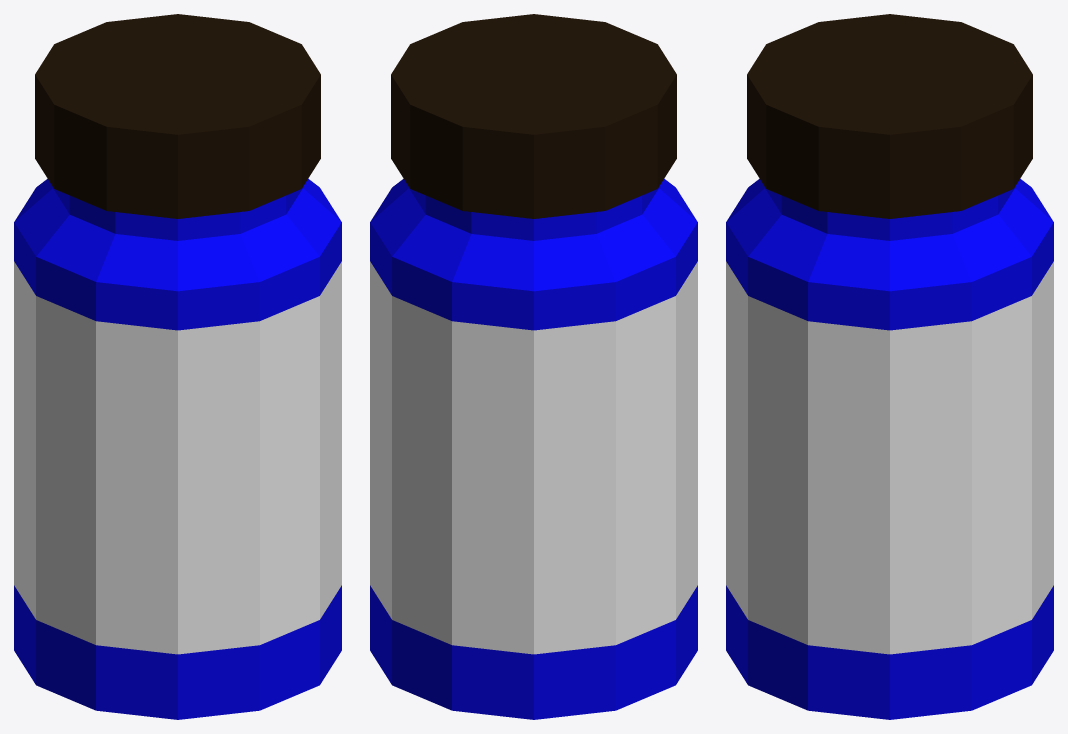
Rendered from drugs.fbx.
3 renders of one model, left to right at view 1: azimuth 30°, elevation 25°; view 2: azimuth 150°, elevation 25°; view 3: azimuth 270°, elevation 25°, orthographic.
Visible parts, largest first — view 1: Цилиндр; view 2: Цилиндр; view 3: Цилиндр.
Boxes of the visible parts, x1,y1,x2,y2 form: Цилиндр: (14, 14, 341, 719); Цилиндр: (370, 14, 697, 719); Цилиндр: (726, 14, 1053, 719).
Size of the model in its own units: 7.95 by 15.42 by 7.95.
